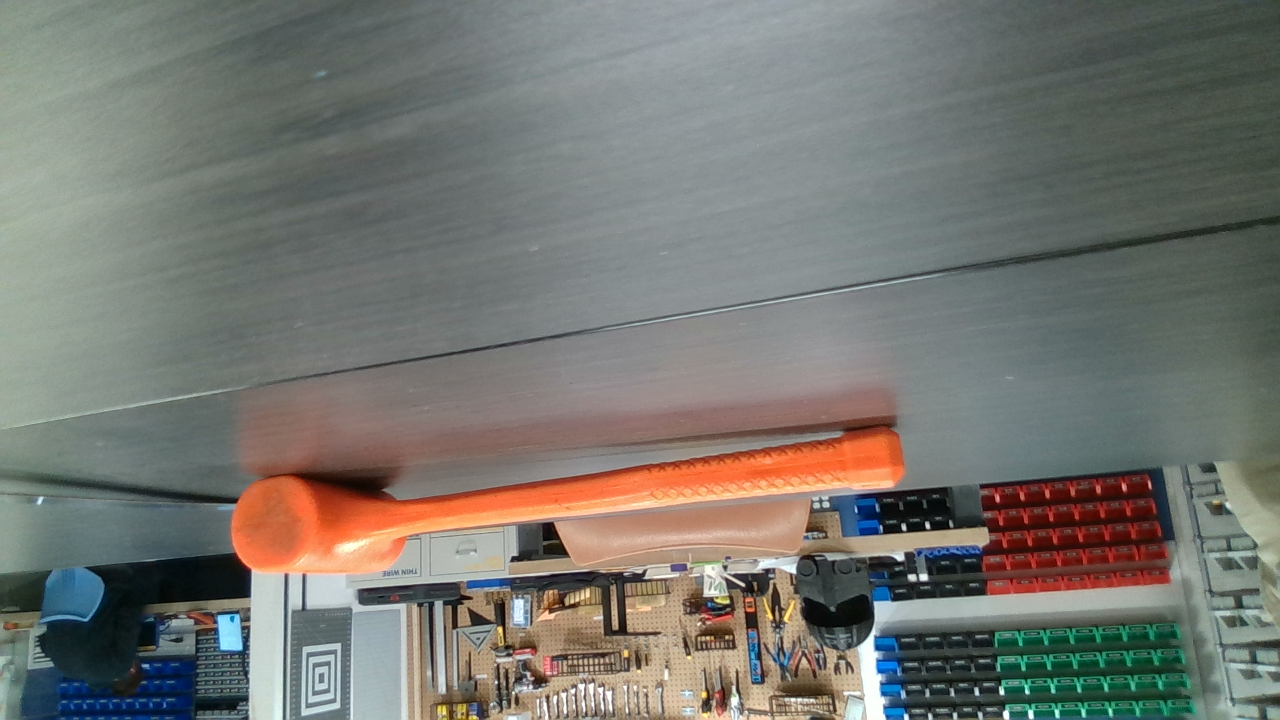Orange Hammer: (236, 423, 901, 573)
